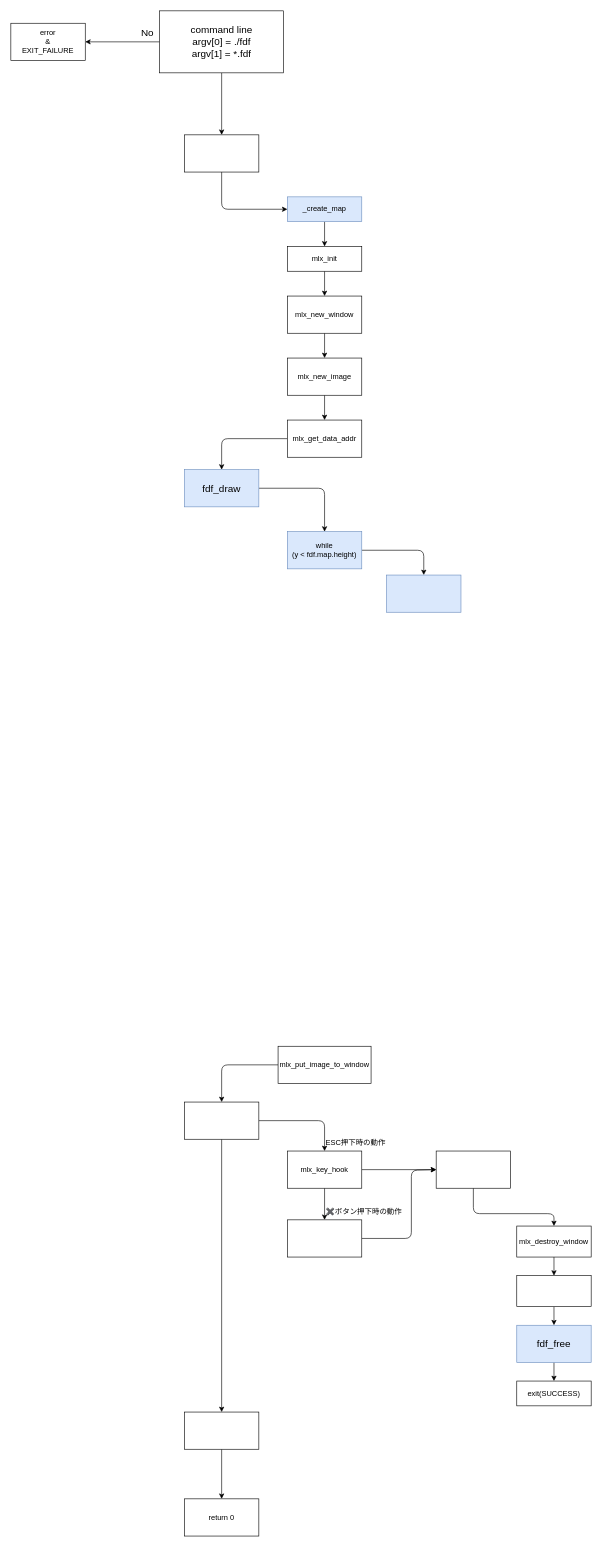
Image size: 602x1547. Some labels were removed from this diagram. The shapes that lost their labels are listed below. From the top down, each one's box as (x1, y1, x2, y2) in pixels, then its label:
(184, 134, 259, 172): fdf_init
(386, 574, 461, 612): while (x < fdf->)
(184, 1101, 259, 1139): set_hook
(436, 1150, 511, 1188): close_window
(287, 1219, 362, 1257): mlx_hook
(516, 1275, 591, 1307): mlx_destroy_display
(184, 1411, 259, 1449): mlx_loop
